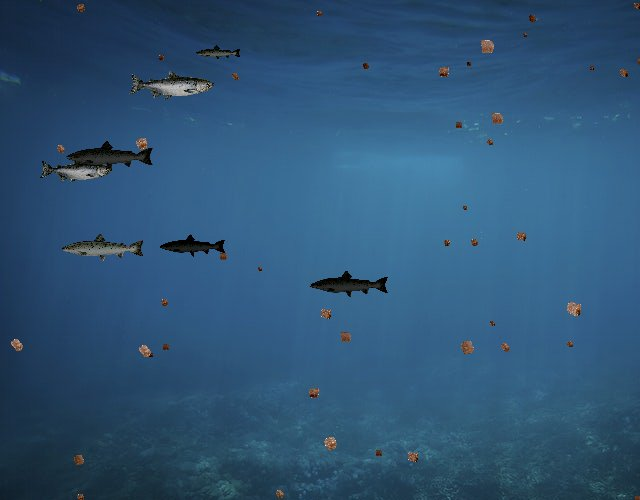Fish: (65, 140, 155, 172), (60, 232, 146, 263), (128, 70, 214, 101), (310, 270, 391, 299), (39, 157, 112, 184), (160, 234, 228, 258), (196, 44, 243, 61)
Pellet: (473, 32, 501, 60), (485, 107, 509, 131), (314, 302, 337, 325), (495, 337, 515, 357), (51, 140, 70, 159), (227, 68, 243, 84), (372, 446, 386, 460), (313, 7, 326, 20), (460, 202, 470, 212)
